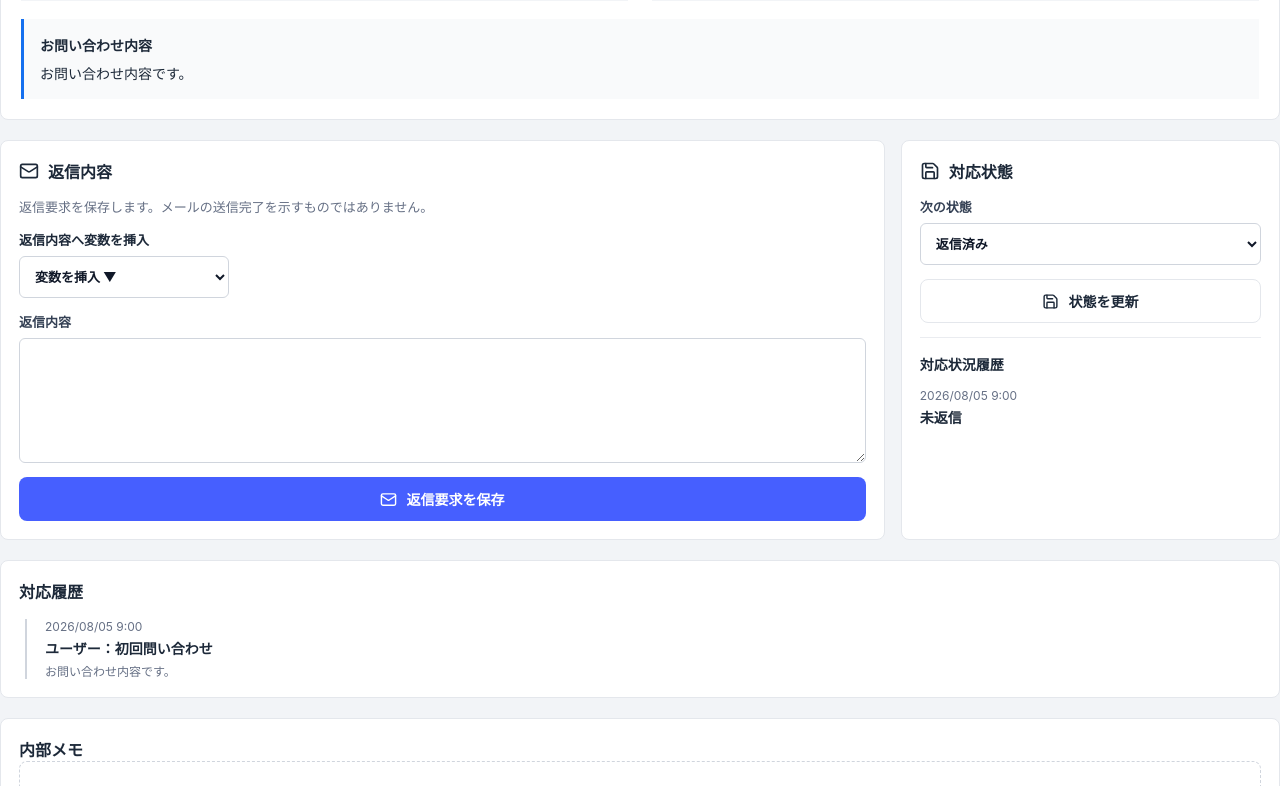
Test: Contact management › queues one reply request and refreshes canonical detail
This screenshot has width=1280, height=786.
(page scrolled)
Expected: the text "お問い合わせ内容です。" is shown 2 times, [40, 65, 193, 82]; [45, 664, 176, 679]
Type "確認してご連絡します。" into the text box labelled "返信内容". click: {"x": 442, "y": 401}
box: [19, 338, 866, 463]
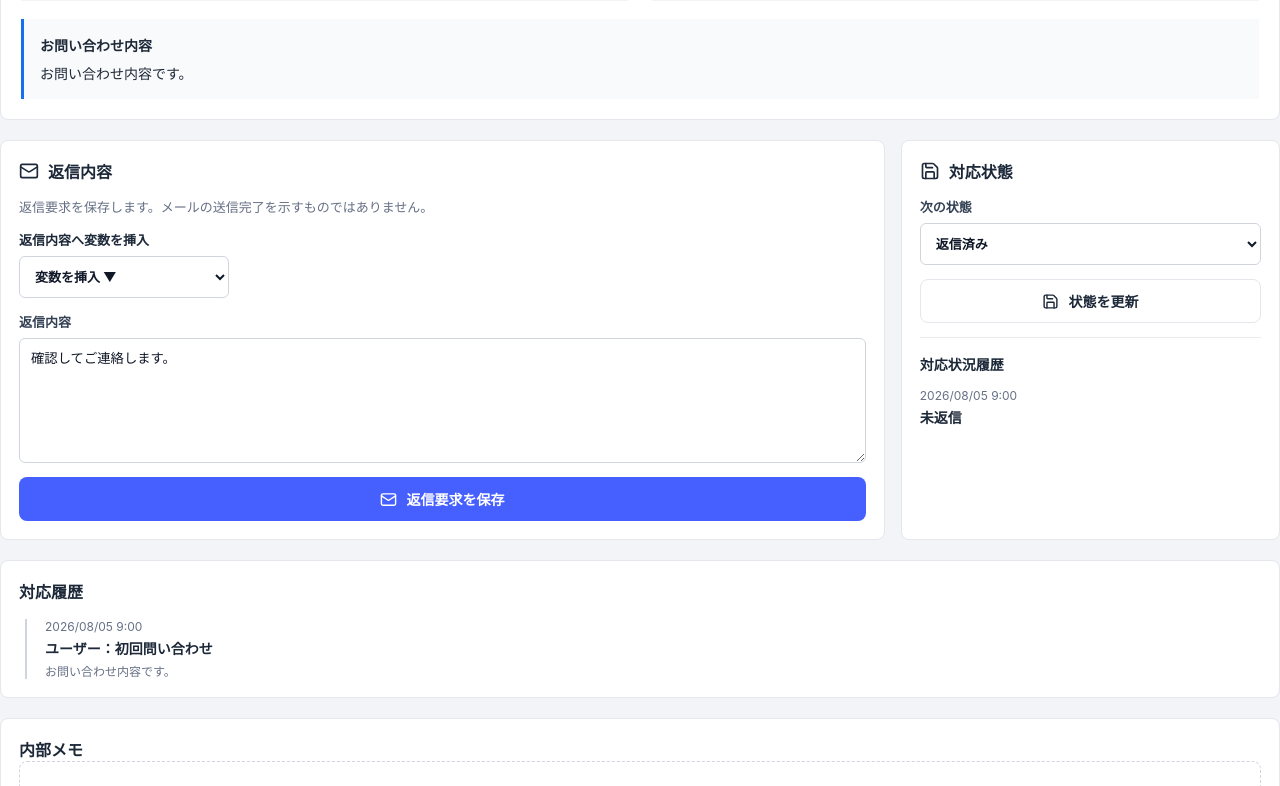
Click the button "返信要求を保存". click: {"x": 442, "y": 499}
box: [19, 477, 866, 521]
(page scrolled)
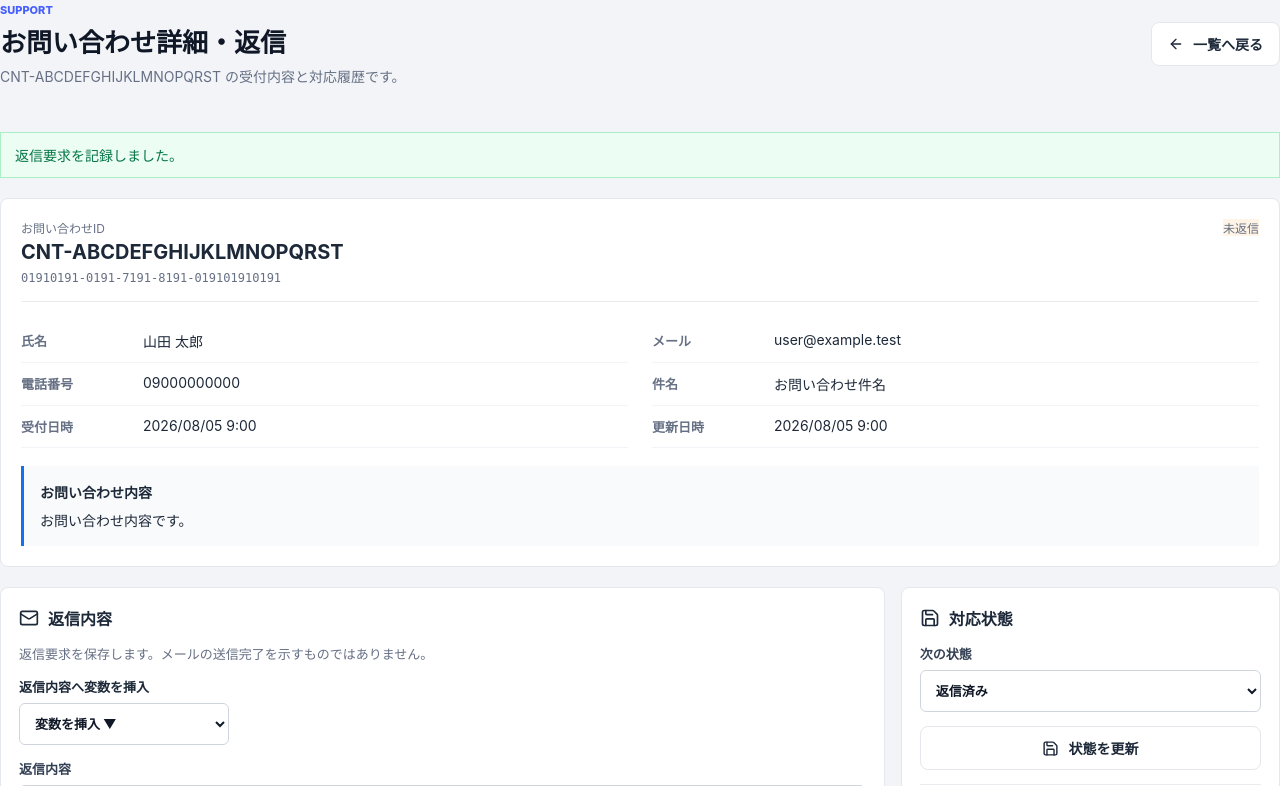
Result: the text "返信要求を記録しました。" is shown at [0, 132, 1279, 178]
